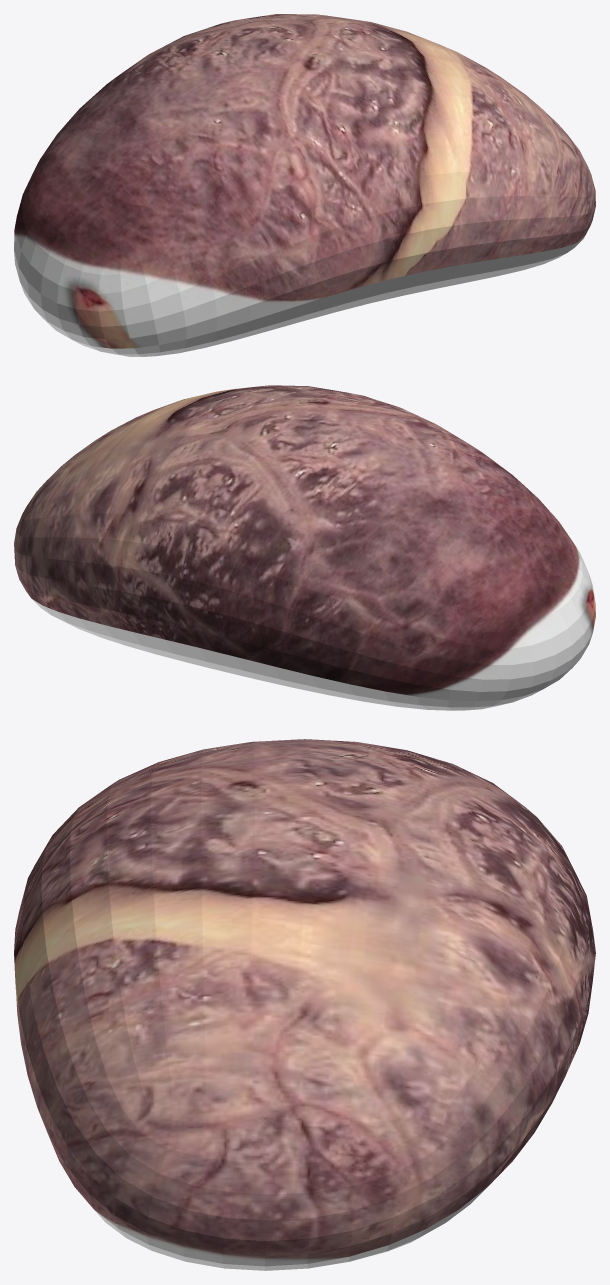
The model's file is placentaTest.fbx.
The picture shows the model from 3 angles, top to bottom: view 1: azimuth 30°, elevation 25°; view 2: azimuth 150°, elevation 25°; view 3: azimuth 270°, elevation 25°; orthographic projection. The views are drawn at different scales.
Visible parts, largest first — view 1: Cube; view 2: Cube; view 3: Cube.
Boxes of the visible parts, bbox=[...] form: Cube: bbox=[14, 14, 595, 356]; Cube: bbox=[14, 385, 595, 710]; Cube: bbox=[14, 739, 595, 1270].
Size of the model in its own units: 88.06 by 37.93 by 58.45.
